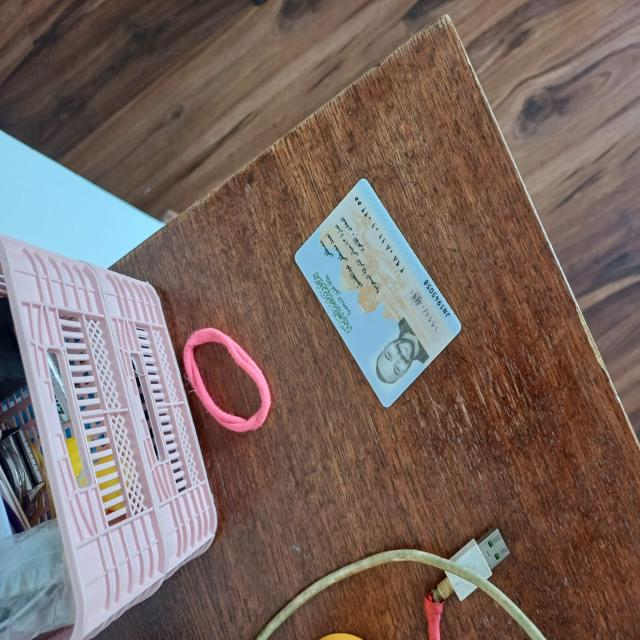id_card: (291, 173, 467, 418)
